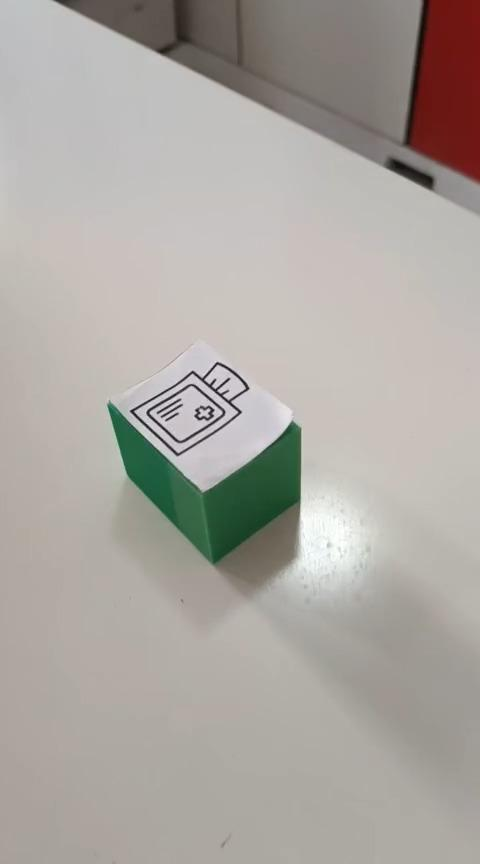Gauze: (105, 338, 302, 565)
